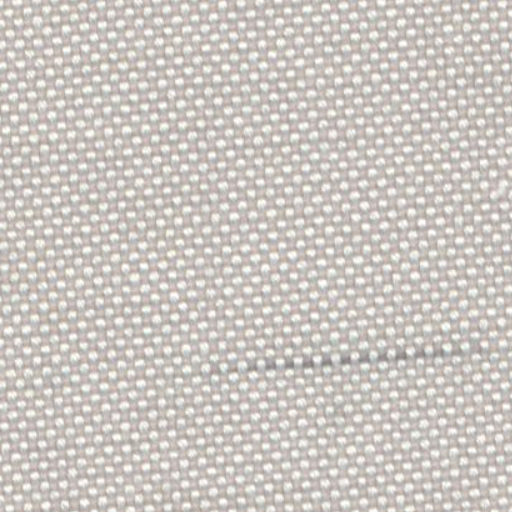WuZi: (220, 323, 456, 372)
